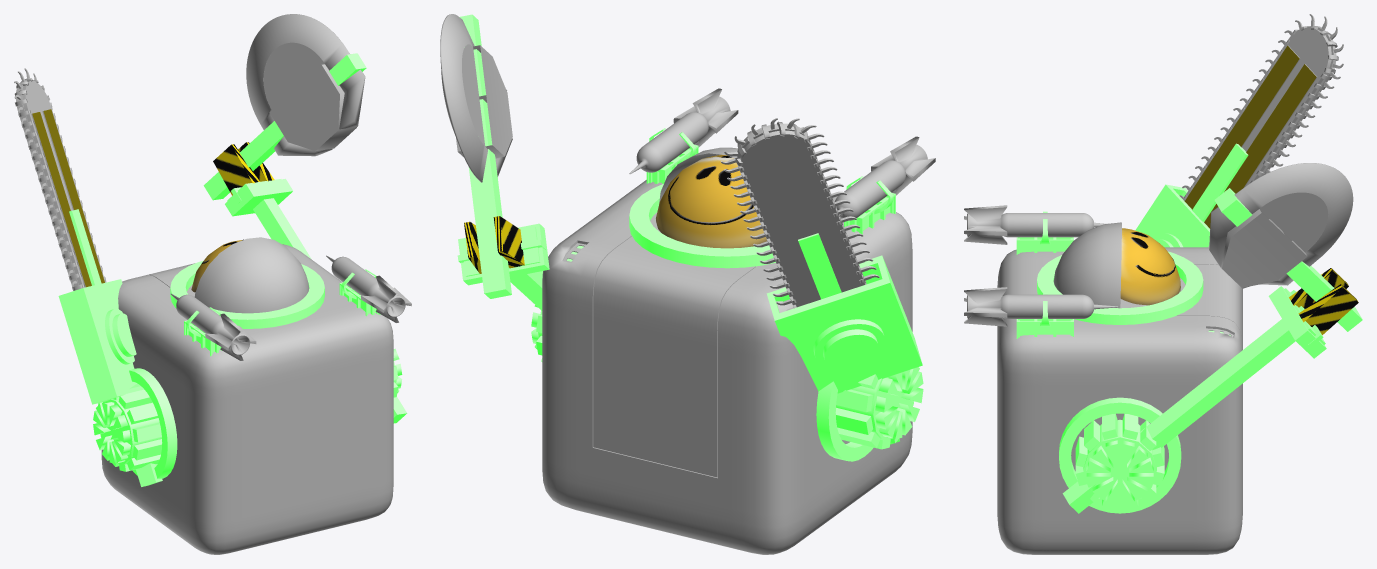
Rendered from killbot.dae.
The picture shows the model from 3 angles, left to right: view 1: azimuth 30°, elevation 25°; view 2: azimuth 150°, elevation 25°; view 3: azimuth 270°, elevation 25°; orthographic projection. The views are drawn at different scales.
Visible parts, largest first — view 1: HyperNURBS, Cylinder (×3), Cube (×4), Sphere, Tube (×2), Capsule, Arm (×2), Cube_Instance, Cylinder.2, Cylinder.1; view 2: HyperNURBS, Cylinder (×3), Cube (×5), Head, Capsule, Tube (×2), Arm (×2), Cylinder.2, Cube_Instance, Cylinder.1, Sphere; view 3: HyperNURBS, Cylinder (×3), Cube (×4), Capsule, Tube (×2), Arm (×2), Sphere, Head, Cube_Instance.
Boxes of the visible parts, x1,y1,x2,y2 form: HyperNURBS: [101, 244, 393, 554]; Cylinder (×3): [16, 14, 402, 471]; Cube (×4): [58, 53, 380, 404]; Sphere: [194, 237, 309, 313]; Tube (×2): [129, 260, 324, 478]; Capsule: [170, 255, 411, 360]; Arm (×2): [69, 198, 407, 486]; Cube_Instance: [213, 142, 274, 195]; Cylinder.2: [112, 313, 136, 356]; Cylinder.1: [105, 308, 134, 364]; HyperNURBS: [542, 180, 912, 554]; Cylinder (×3): [440, 14, 923, 449]; Cube (×5): [458, 14, 922, 393]; Head: [656, 154, 766, 248]; Capsule: [629, 88, 935, 220]; Tube (×2): [629, 184, 873, 461]; Arm (×2): [510, 233, 899, 444]; Cylinder.2: [823, 329, 878, 371]; Cube_Instance: [464, 216, 524, 273]; Cylinder.1: [813, 319, 885, 371]; Sphere: [659, 147, 737, 202]; HyperNURBS: [997, 247, 1242, 554]; Cylinder (×3): [1075, 27, 1353, 509]; Cube (×4): [1016, 184, 1362, 358]; Capsule: [964, 205, 1117, 326]; Tube (×2): [1037, 251, 1203, 513]; Arm (×2): [1062, 143, 1304, 513]; Sphere: [1053, 222, 1121, 308]; Head: [1120, 228, 1180, 305]; Cube_Instance: [1289, 268, 1358, 334].
Size of the model in its own units: 330 by 382 by 325.
